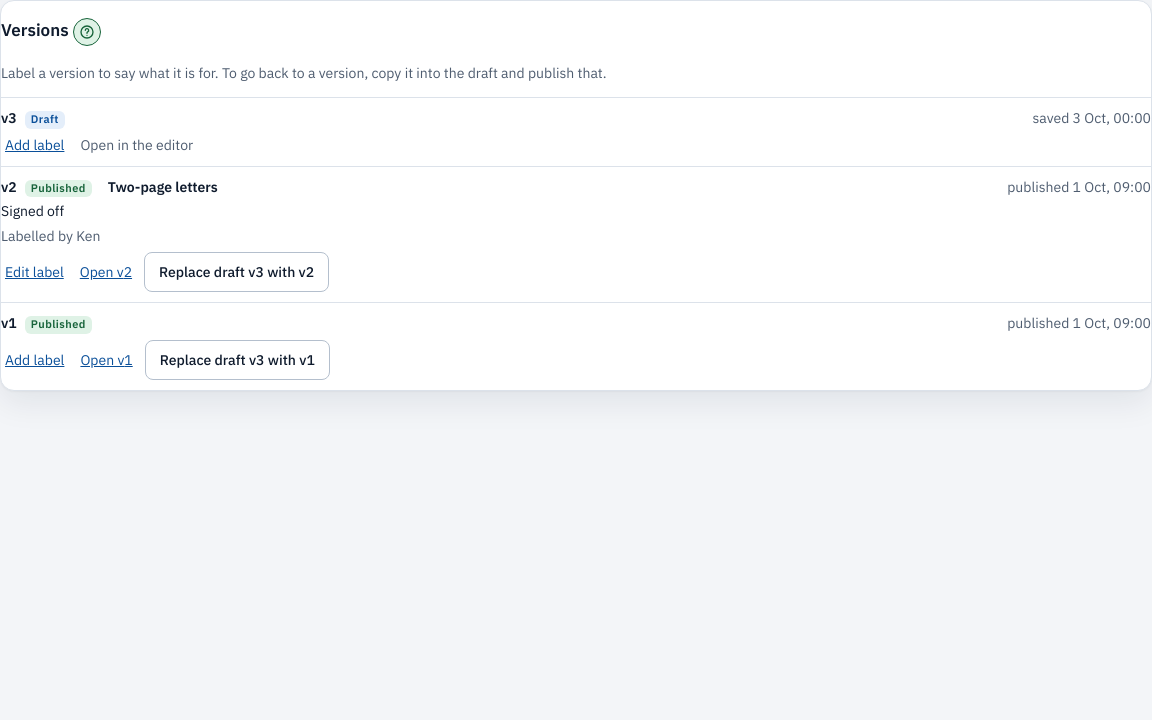
Test: VersionsPanel (#144) › keeps a refused replace in the dialog
Step 1. Click the button "Replace draft v3 with v1" → (237, 360), box [145,340,330,380]
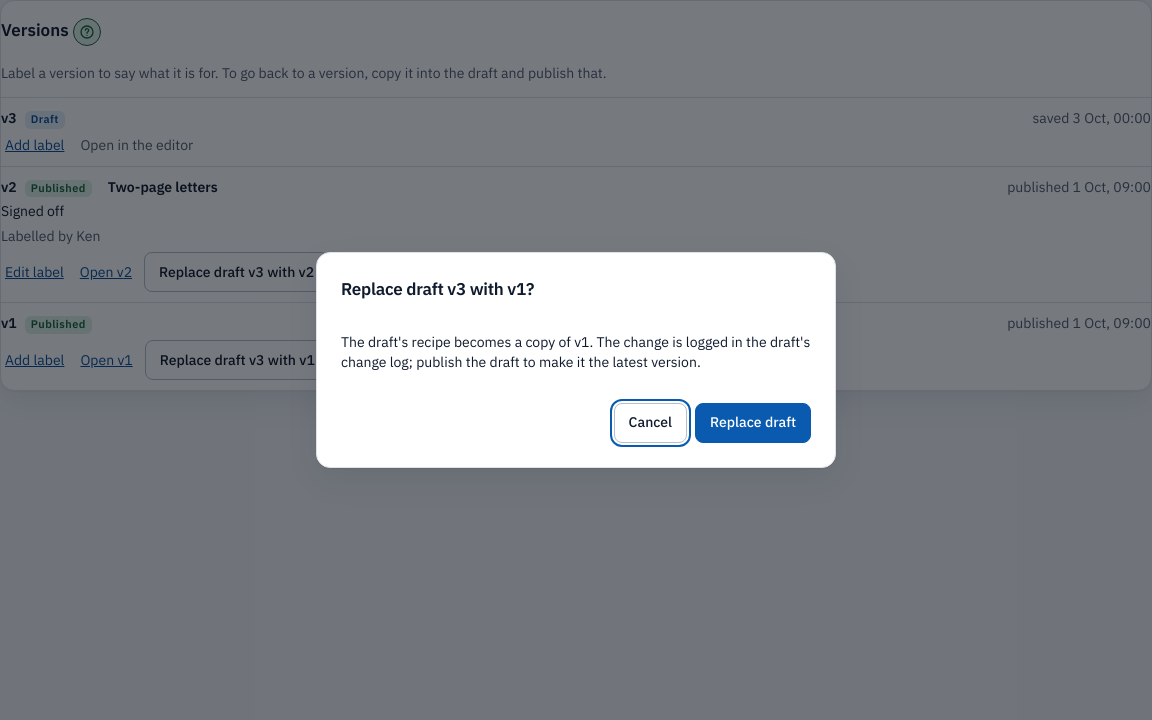
Step 2. Click the button "Replace draft" → (753, 423), box [695,403,811,443]
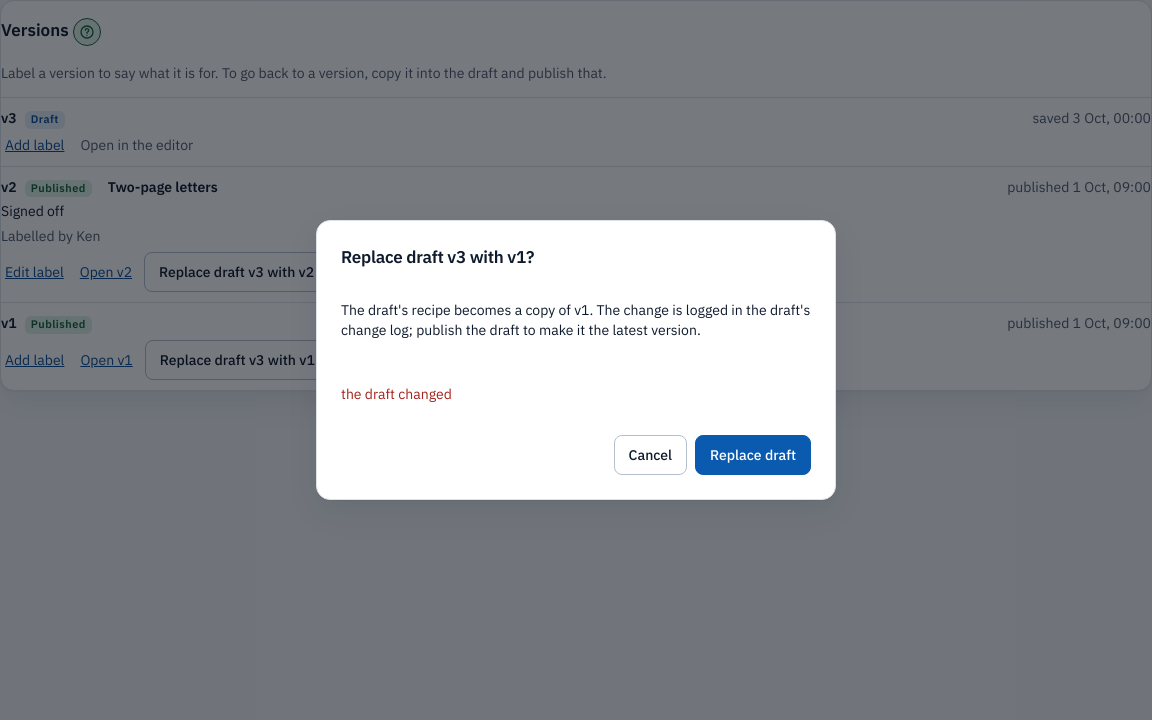
Result: the message reads "the draft changed" at [341,386,452,404]
